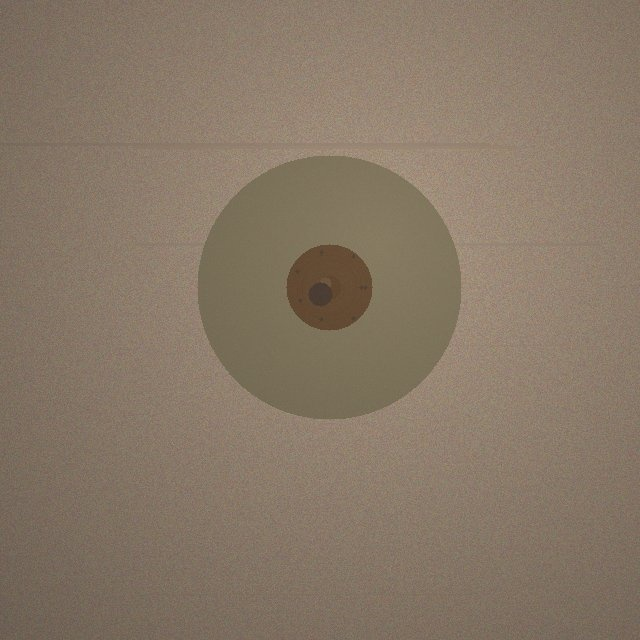cold_weld: (197, 155, 461, 419)
